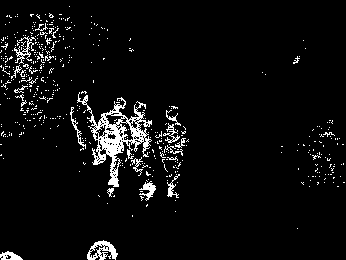person: (97, 95, 133, 198), (128, 101, 161, 200), (156, 105, 188, 200), (70, 90, 106, 165)
